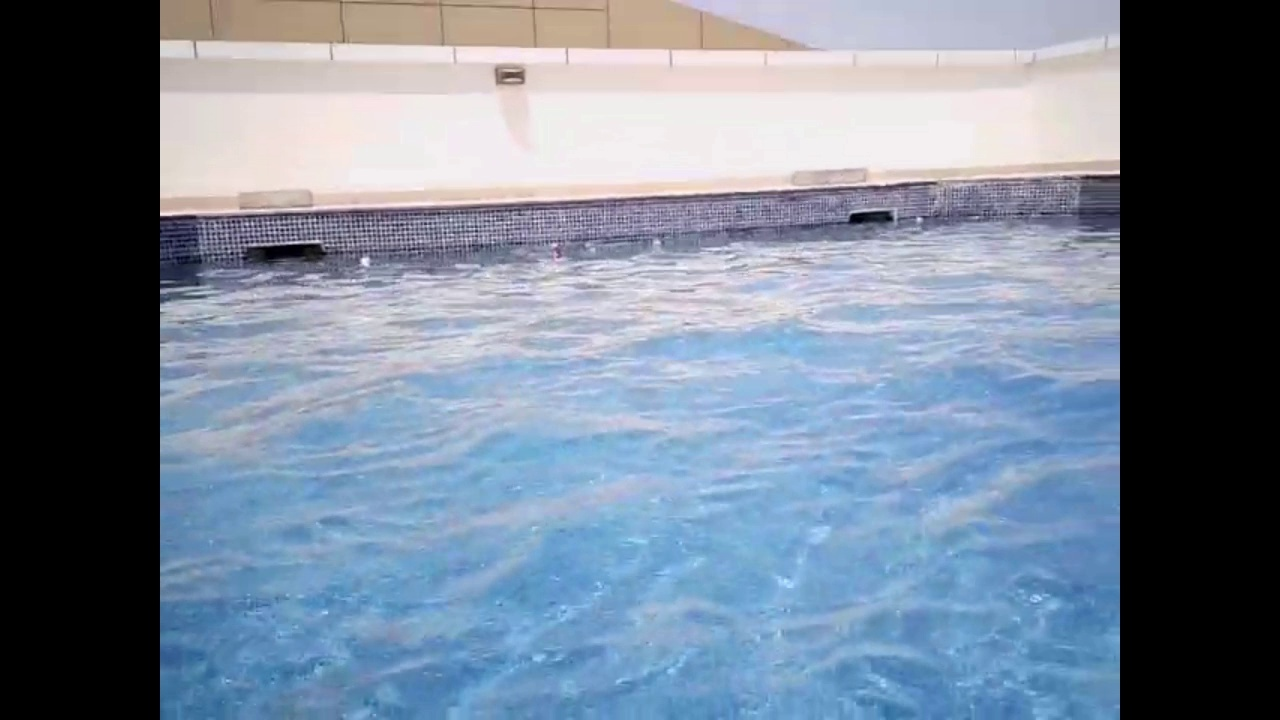debris: (548, 241, 565, 257), (649, 234, 664, 250), (357, 255, 373, 268), (580, 237, 594, 249), (914, 213, 924, 224)
